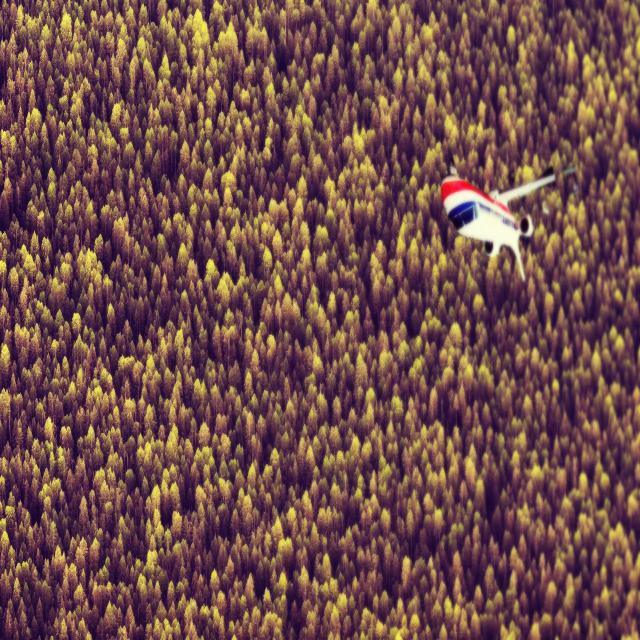airplane: (440, 162, 577, 282)
